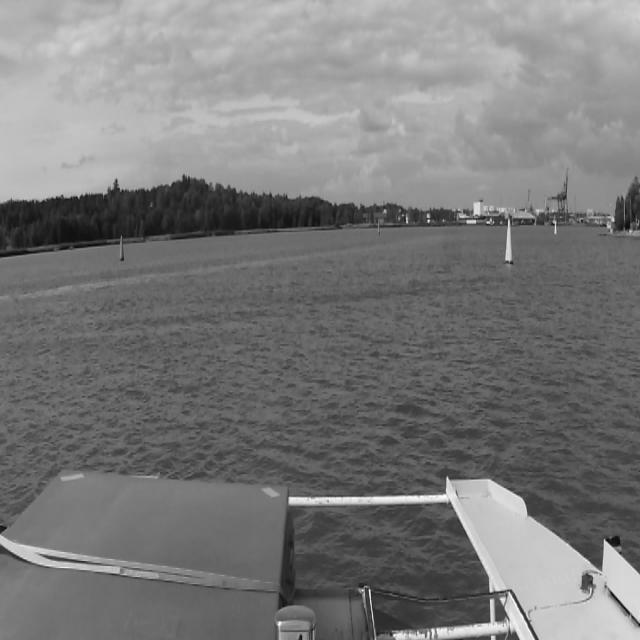buoy: (504, 214, 514, 266), (118, 232, 126, 262), (376, 218, 381, 236), (553, 218, 558, 236)
